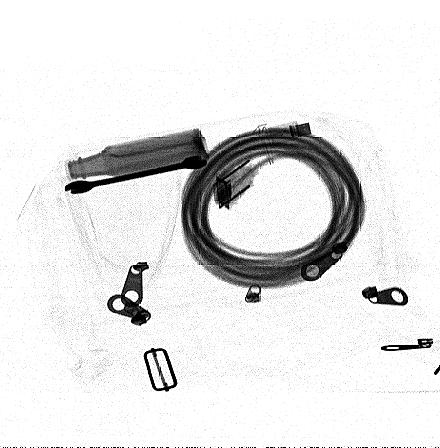Wrench: (62, 153, 208, 195)
